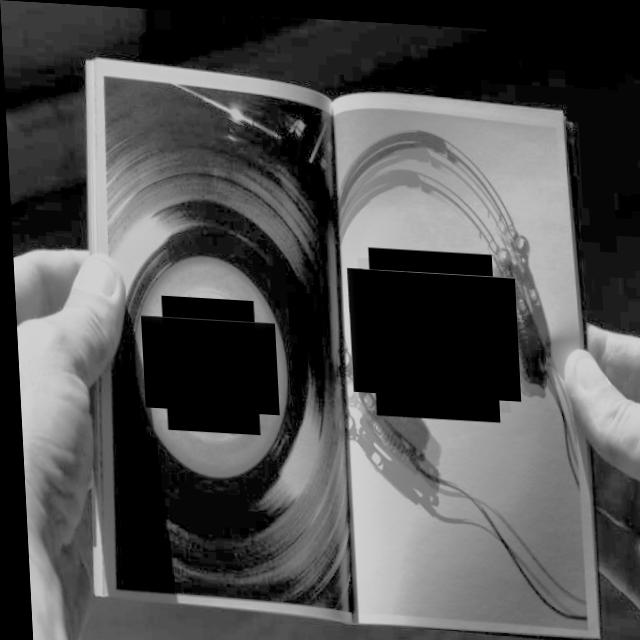qr_code: (355, 253, 507, 407), (148, 303, 266, 423)
